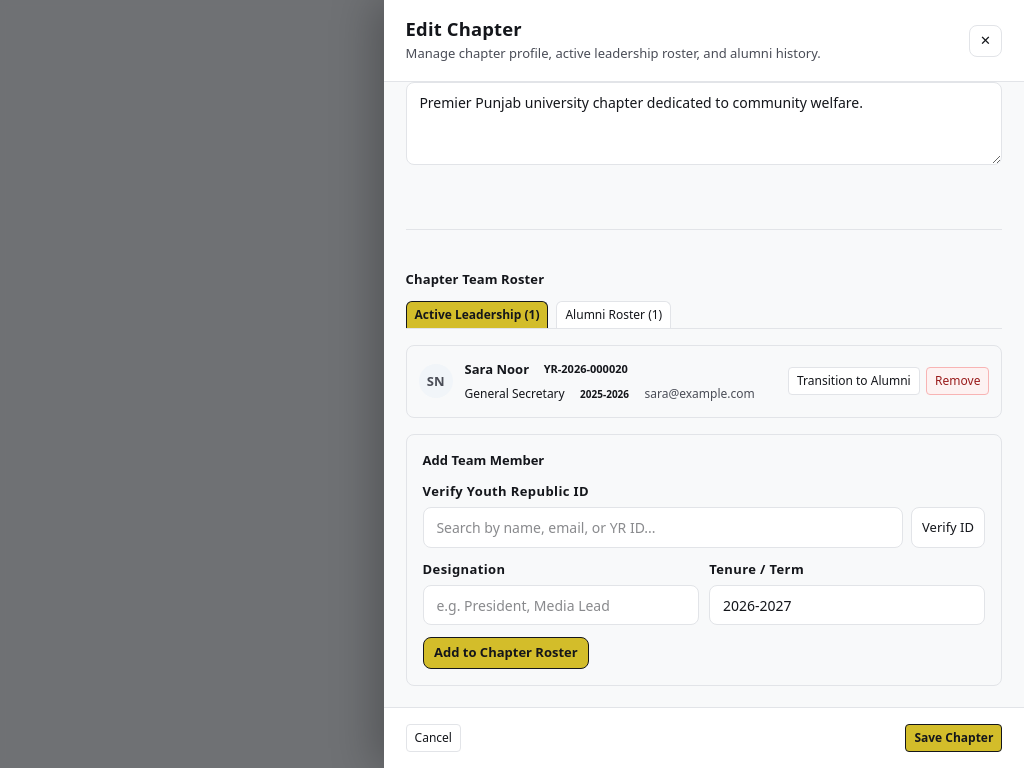
Test: EditChapterDrawer › shows specific error when YR ID has pending verification
(page scrolled)
Type "YR-2026-000053" into the field labelled "Verify Youth Republic ID" at (663, 527), box 423,507 -> 903,548
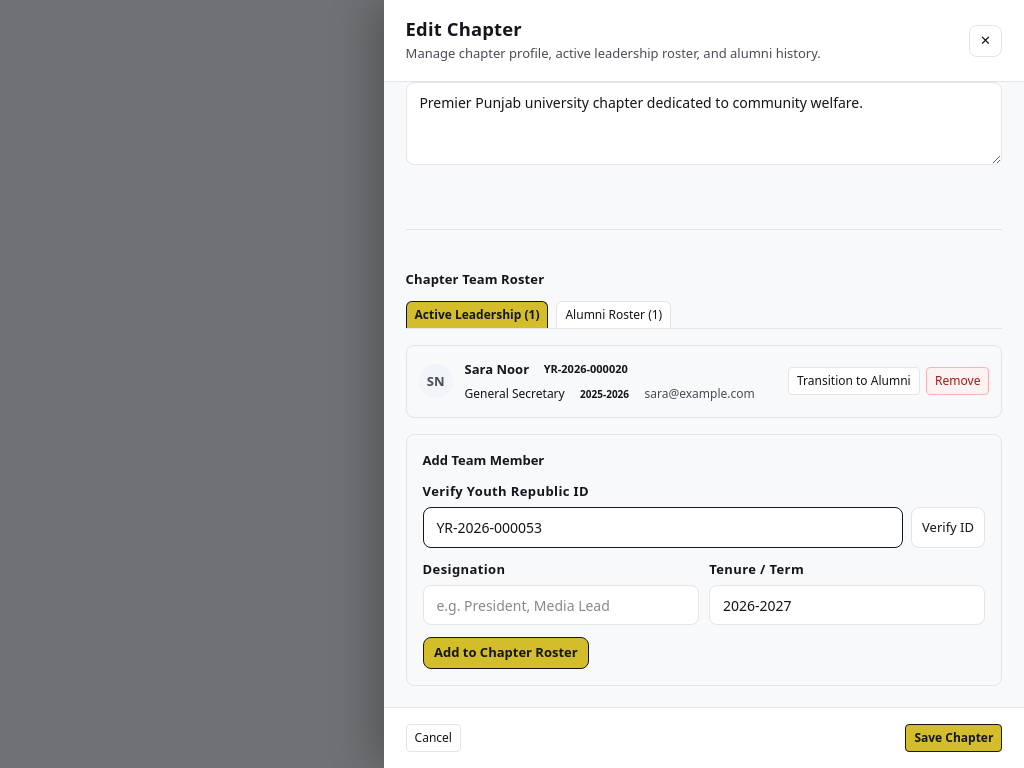
Click the button "Verify ID" at (948, 527), box 911,507 -> 985,548
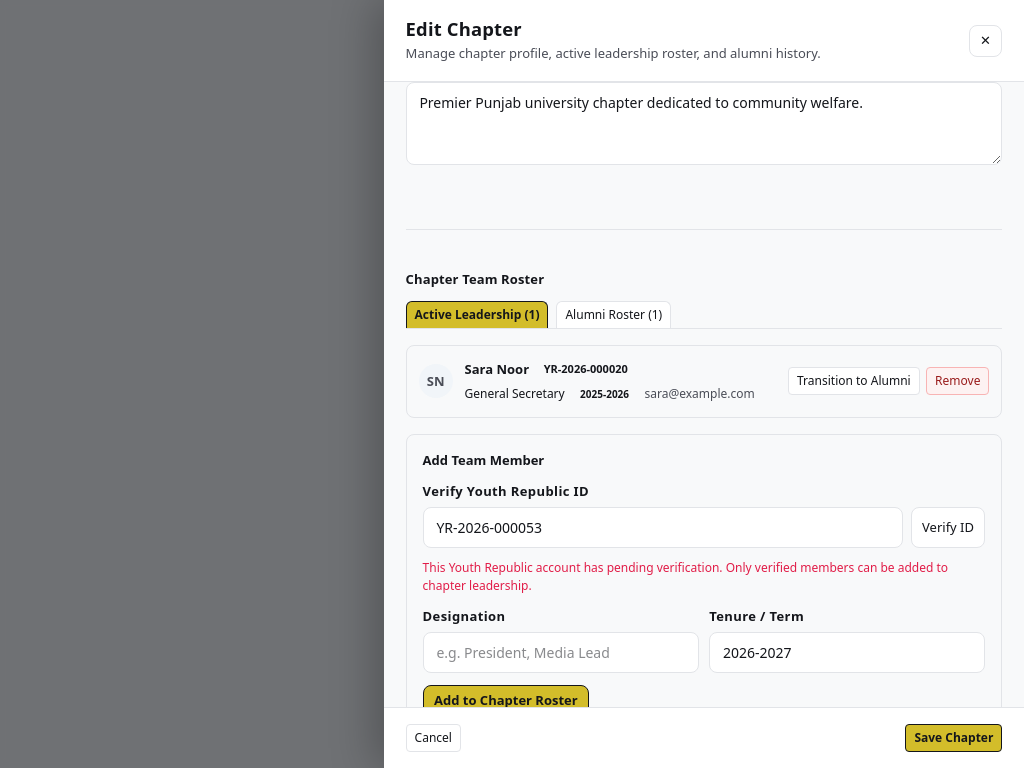
Now the text "This Youth Republic account has pending verification. Only verified members can be added to chapter leadership." is shown, box 423,559 -> 948,594
